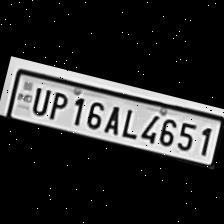1: (64, 91, 89, 125), (192, 122, 216, 156)
4: (134, 107, 162, 143)
5: (172, 116, 198, 153)
6: (80, 95, 107, 131), (154, 112, 179, 147)
A: (100, 98, 126, 135)
L: (118, 103, 142, 139)
P: (44, 86, 71, 121)
U: (26, 80, 54, 116)
